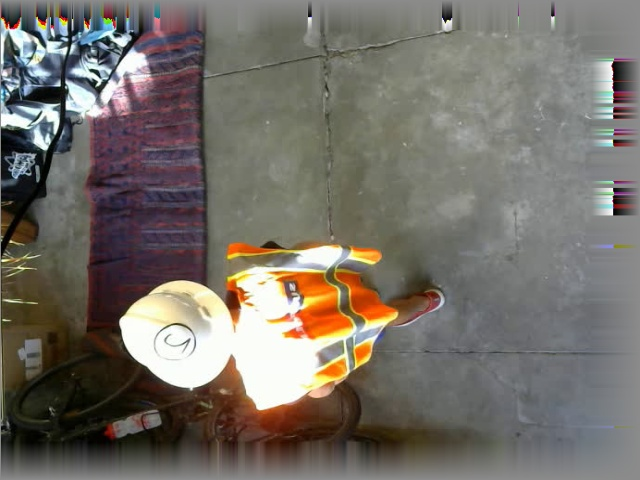two: (152, 323, 194, 361)
